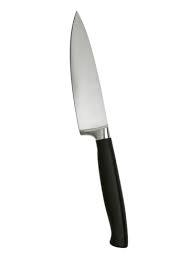Knife: (68, 10, 128, 248)
